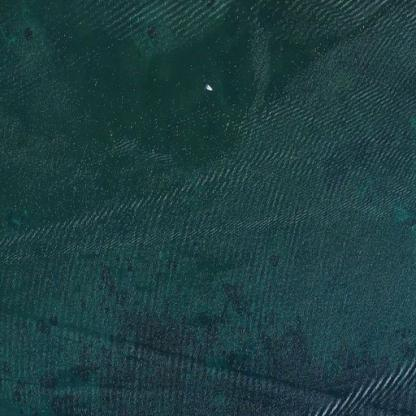ship: (197, 77, 215, 95)
